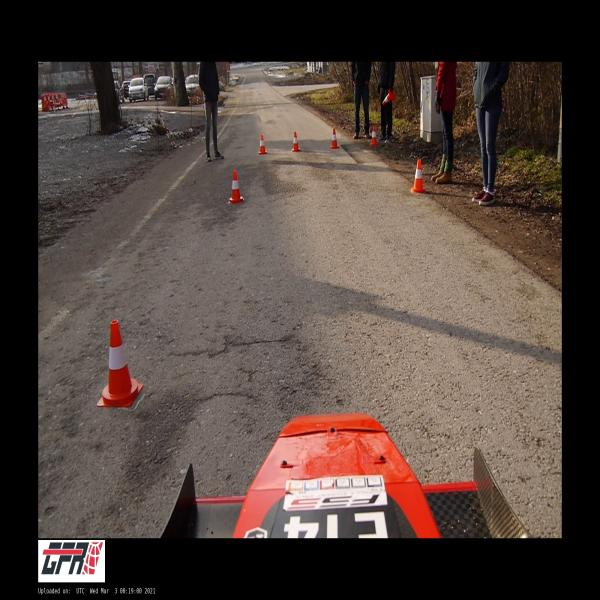orange_cone: (97, 320, 143, 406), (229, 170, 244, 202), (411, 159, 425, 193), (382, 89, 394, 104), (292, 132, 300, 152), (330, 129, 338, 149), (370, 126, 378, 146), (258, 135, 266, 154)
